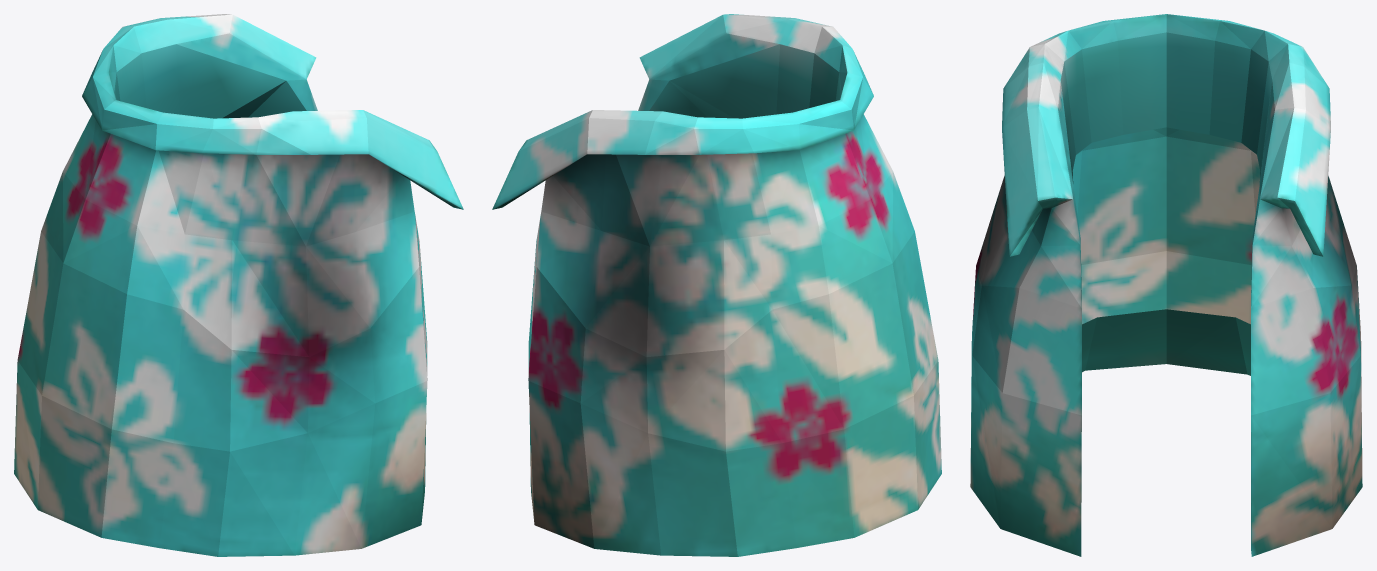
Rendered from HAWAIIAN SHIRT.fbx.
3 renders of one model, left to right at view 1: azimuth 30°, elevation 25°; view 2: azimuth 150°, elevation 25°; view 3: azimuth 270°, elevation 25°, orthographic.
Parts seen in each view (by area): view 1: HAWAIIAN_SHIRT; view 2: HAWAIIAN_SHIRT; view 3: HAWAIIAN_SHIRT.
Boxes of the visible parts, x1,y1,x2,y2 form: HAWAIIAN_SHIRT: [14, 14, 463, 556]; HAWAIIAN_SHIRT: [492, 14, 941, 556]; HAWAIIAN_SHIRT: [970, 14, 1362, 556].
Size of the model in its own units: 37.88 by 45.17 by 37.84.
